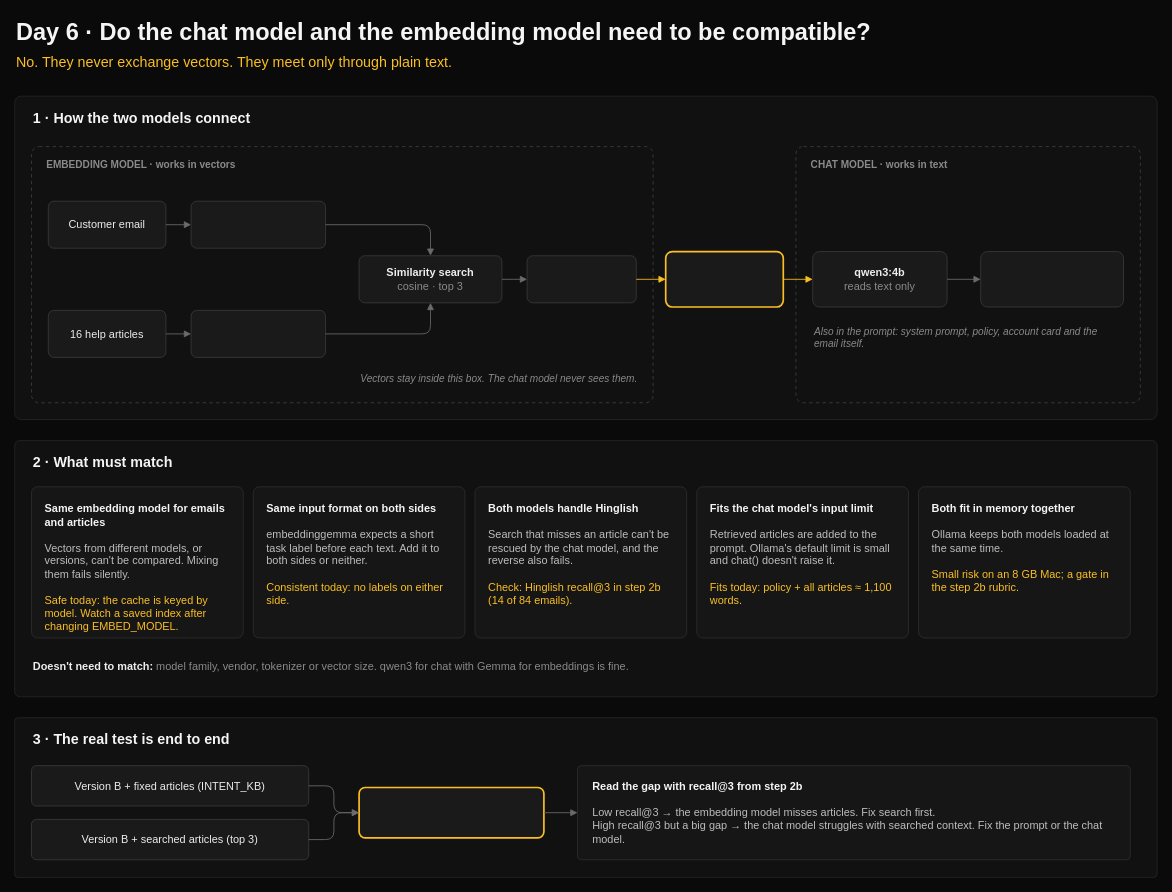
Some shapes in this 1172 by 892 pixel diagram are drawn without their labels. The box of each missing label's shape, as (x1, y1, x2, y2) in pixels:
embeddinggemma article → vector: (190, 310, 326, 357)
embeddinggemma email → vector: (190, 200, 326, 248)
JSON reply intent · reply · needs_human: (980, 251, 1124, 307)
Look up article text by ID: (526, 255, 636, 303)
Pass-rate gap = what search costs you: (358, 786, 544, 838)
Plain text the only handoff: (664, 250, 784, 307)
